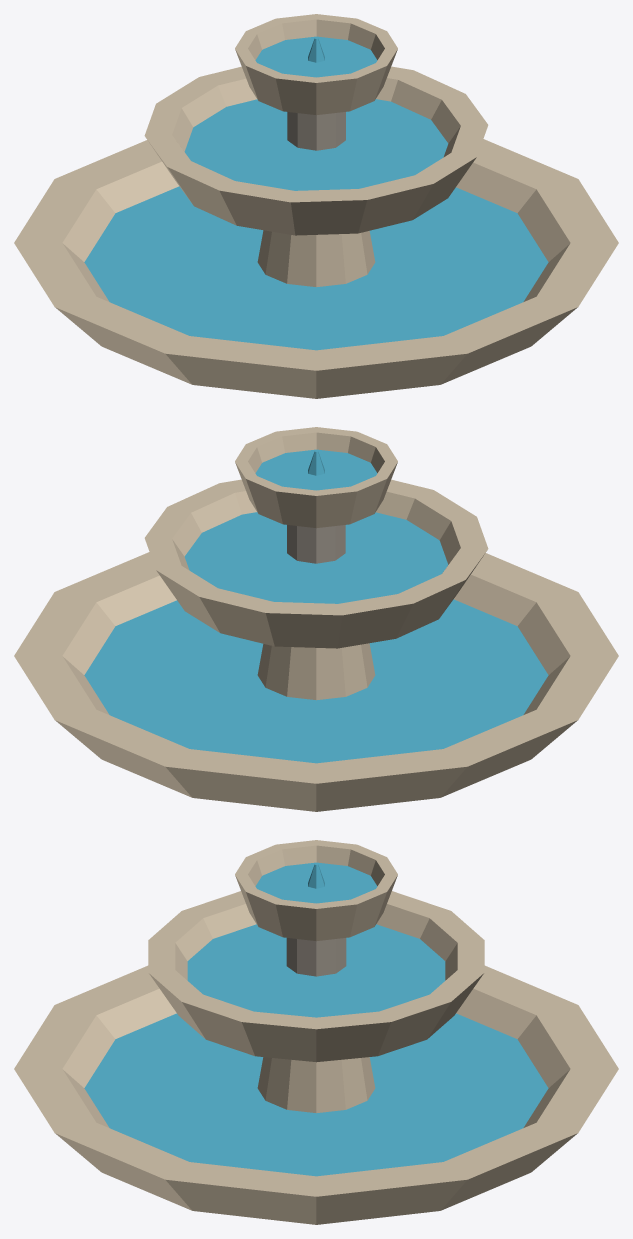
File: fountain_round.fbx
The picture shows the model from 3 angles, top to bottom: view 1: azimuth 30°, elevation 25°; view 2: azimuth 150°, elevation 25°; view 3: azimuth 270°, elevation 25°; orthographic projection.
Parts seen in each view (by area): view 1: fountain_round; view 2: fountain_round; view 3: fountain_round.
Part boxes in pixels (left/top/right/bottom): fountain_round: left=14, top=14, right=618, bottom=398; fountain_round: left=14, top=427, right=618, bottom=811; fountain_round: left=14, top=840, right=618, bottom=1224.
Size of the model in its own units: 6 by 2.8 by 6.
